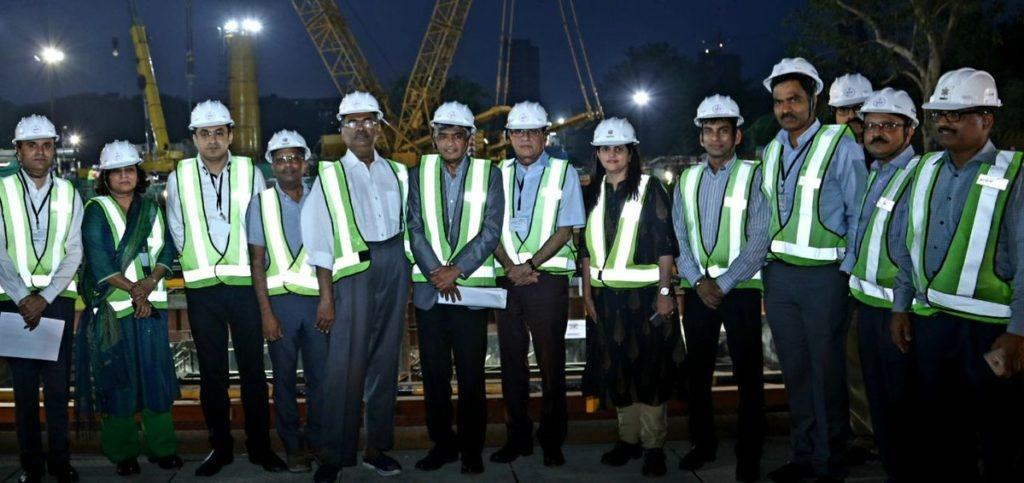helmet: (921, 70, 1007, 117), (763, 50, 825, 88), (261, 124, 314, 158), (11, 112, 61, 146), (589, 115, 639, 149), (503, 101, 551, 136), (95, 138, 143, 173), (825, 77, 877, 109), (866, 85, 919, 116), (188, 98, 236, 132), (689, 97, 747, 124), (426, 101, 483, 128), (335, 88, 382, 118)
person: (755, 50, 865, 483), (921, 62, 1024, 483), (315, 87, 419, 478), (579, 111, 683, 483), (169, 98, 269, 483), (672, 97, 771, 483), (415, 95, 507, 482), (492, 101, 582, 483), (0, 110, 84, 483), (85, 134, 170, 483), (249, 124, 323, 483)
vest: (925, 150, 1024, 329), (415, 148, 498, 316), (763, 130, 846, 285), (171, 158, 262, 297), (321, 155, 411, 286), (86, 194, 173, 322), (578, 174, 668, 296), (679, 164, 760, 297), (493, 157, 573, 289), (3, 171, 73, 321), (255, 181, 321, 301), (863, 161, 911, 315)
